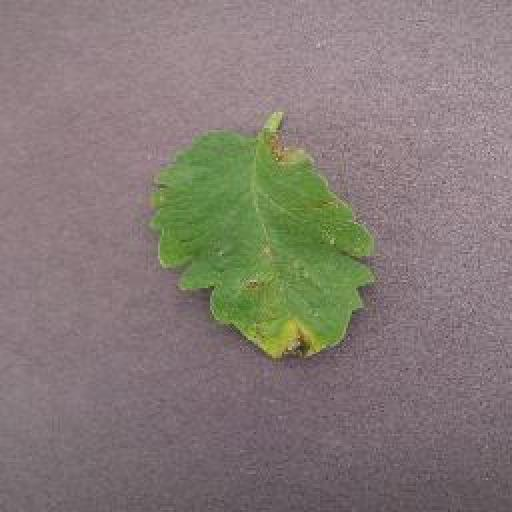disease_tomato: (142, 130, 374, 368)
